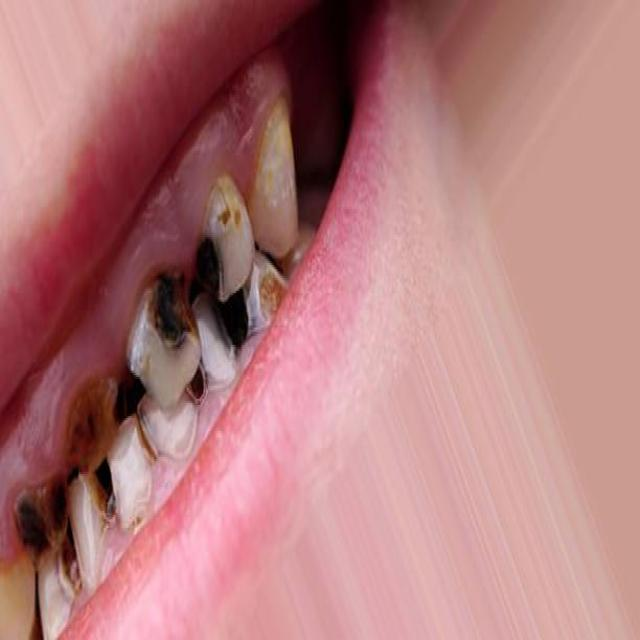caries: (8, 460, 73, 564), (198, 178, 250, 302), (61, 365, 118, 475), (144, 261, 197, 357), (196, 303, 242, 377), (246, 247, 287, 326), (85, 458, 127, 532), (51, 538, 92, 607), (179, 351, 211, 416)
